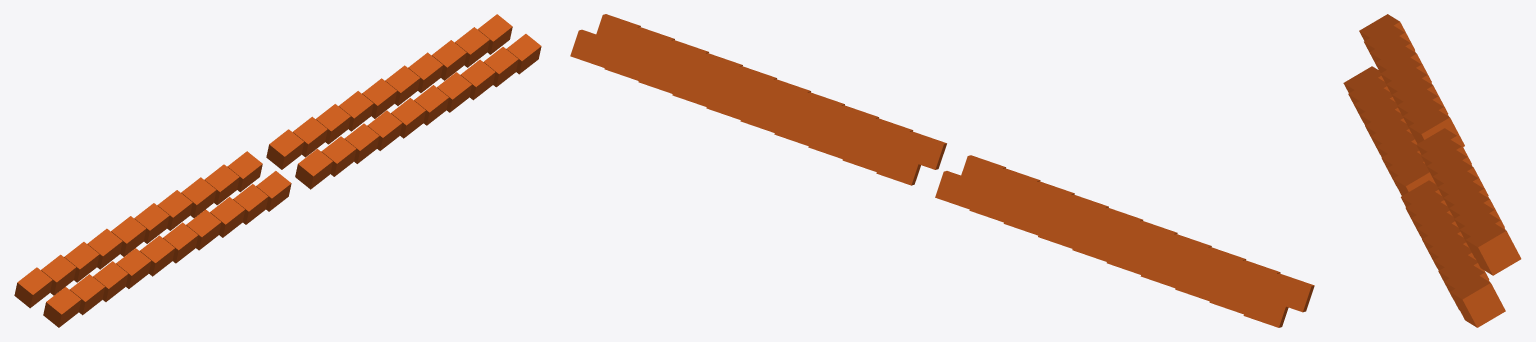
File: Barracks Floorplan.glb
3 views of the same model, side by side, from view 1: azimuth 30°, elevation 25°; view 2: azimuth 150°, elevation 25°; view 3: azimuth 270°, elevation 25° (orthographic). The views are drawn at different scales.
Visible parts, largest first — view 1: mesh_id449, mesh_id185, mesh_id457, mesh_id186, mesh_id444, mesh_id448, mesh_id441, mesh_id184, mesh_id179, mesh_id178, mesh_id447, mesh_id445 (+28 smaller); view 2: mesh_id449, mesh_id457, mesh_id440, mesh_id443, mesh_id446, mesh_id447, mesh_id445, mesh_id442, mesh_id444, mesh_id448, mesh_id441, mesh_id458 (+28 smaller); view 3: mesh_id451, mesh_id195, mesh_id446, mesh_id176, mesh_id443, mesh_id449, mesh_id440, mesh_id453, mesh_id455, mesh_id457, mesh_id445, mesh_id441 (+28 smaller).
Part boxes in pixels (x1,y1,x2,y2): mesh_id449: (14, 267, 52, 308); mesh_id185: (43, 287, 81, 327); mesh_id457: (266, 129, 303, 169); mesh_id186: (295, 149, 332, 189); mesh_id444: (181, 177, 216, 217); mesh_id448: (41, 254, 76, 295); mesh_id441: (111, 216, 146, 256); mesh_id184: (69, 274, 104, 315); mesh_id179: (140, 235, 174, 276); mesh_id178: (210, 197, 245, 237); mesh_id447: (64, 242, 99, 282); mesh_id445: (204, 164, 239, 205); mesh_id449: (1267, 273, 1314, 312); mesh_id457: (900, 131, 946, 169); mesh_id440: (1164, 234, 1211, 272); mesh_id443: (1062, 194, 1108, 233); mesh_id446: (959, 155, 1005, 193); mesh_id447: (1199, 247, 1246, 285); mesh_id445: (993, 168, 1040, 206); mesh_id442: (1096, 207, 1143, 246); mesh_id444: (1028, 181, 1074, 219); mesh_id448: (1233, 260, 1280, 298); mesh_id441: (1130, 220, 1177, 259); mesh_id458: (832, 105, 878, 143); mesh_id451: (1466, 223, 1521, 275); mesh_id195: (1450, 275, 1505, 327); mesh_id446: (1409, 110, 1464, 146); mesh_id176: (1393, 162, 1435, 195); mesh_id443: (1392, 78, 1448, 113); mesh_id449: (1359, 14, 1414, 50); mesh_id440: (1376, 46, 1431, 82); mesh_id453: (1449, 191, 1504, 227); mesh_id455: (1433, 160, 1488, 195); mesh_id457: (1416, 128, 1471, 164); mesh_id445: (1403, 99, 1448, 143); mesh_id441: (1380, 57, 1426, 101).
Bounding box in the file's own units: 0.494 × 0.1381 × 0.0885.
Materials: 40 (40 with a texture image).
